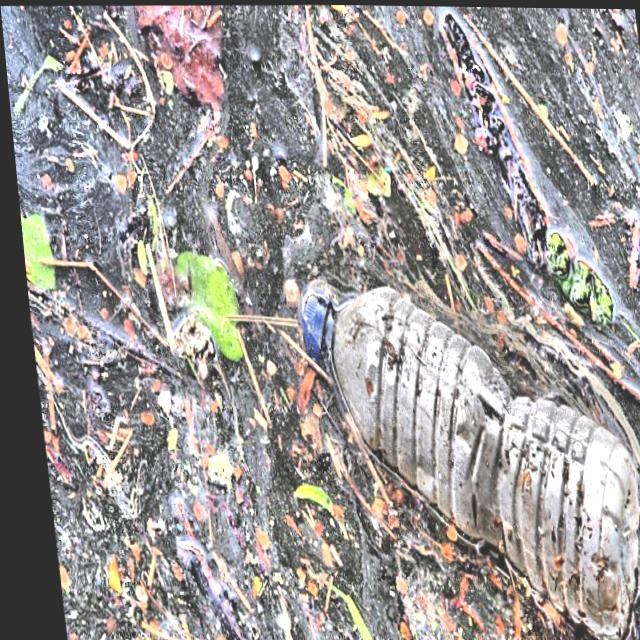Bottles: (274, 220, 640, 640)
